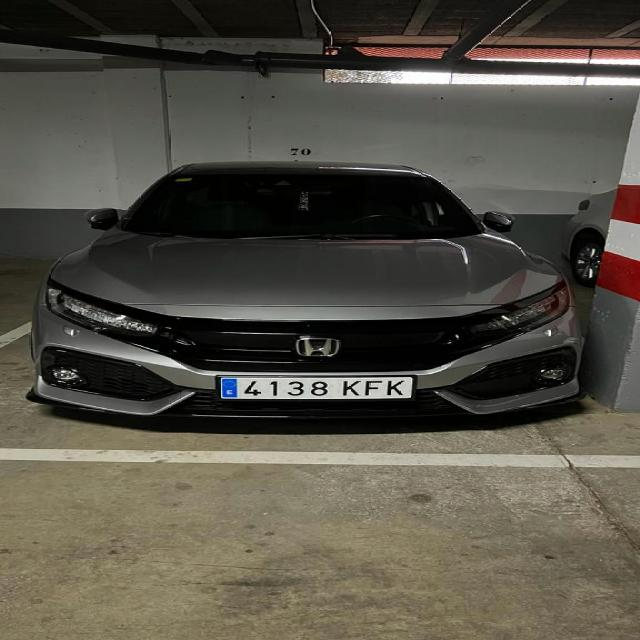License-Plate: (218, 374, 414, 401)
